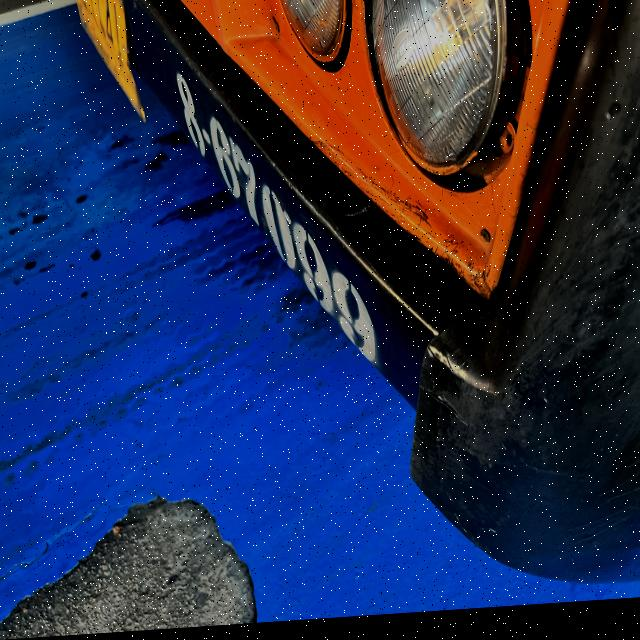BMTA-bus: (65, 0, 640, 595)
Bus Side Number: (165, 59, 390, 422)
